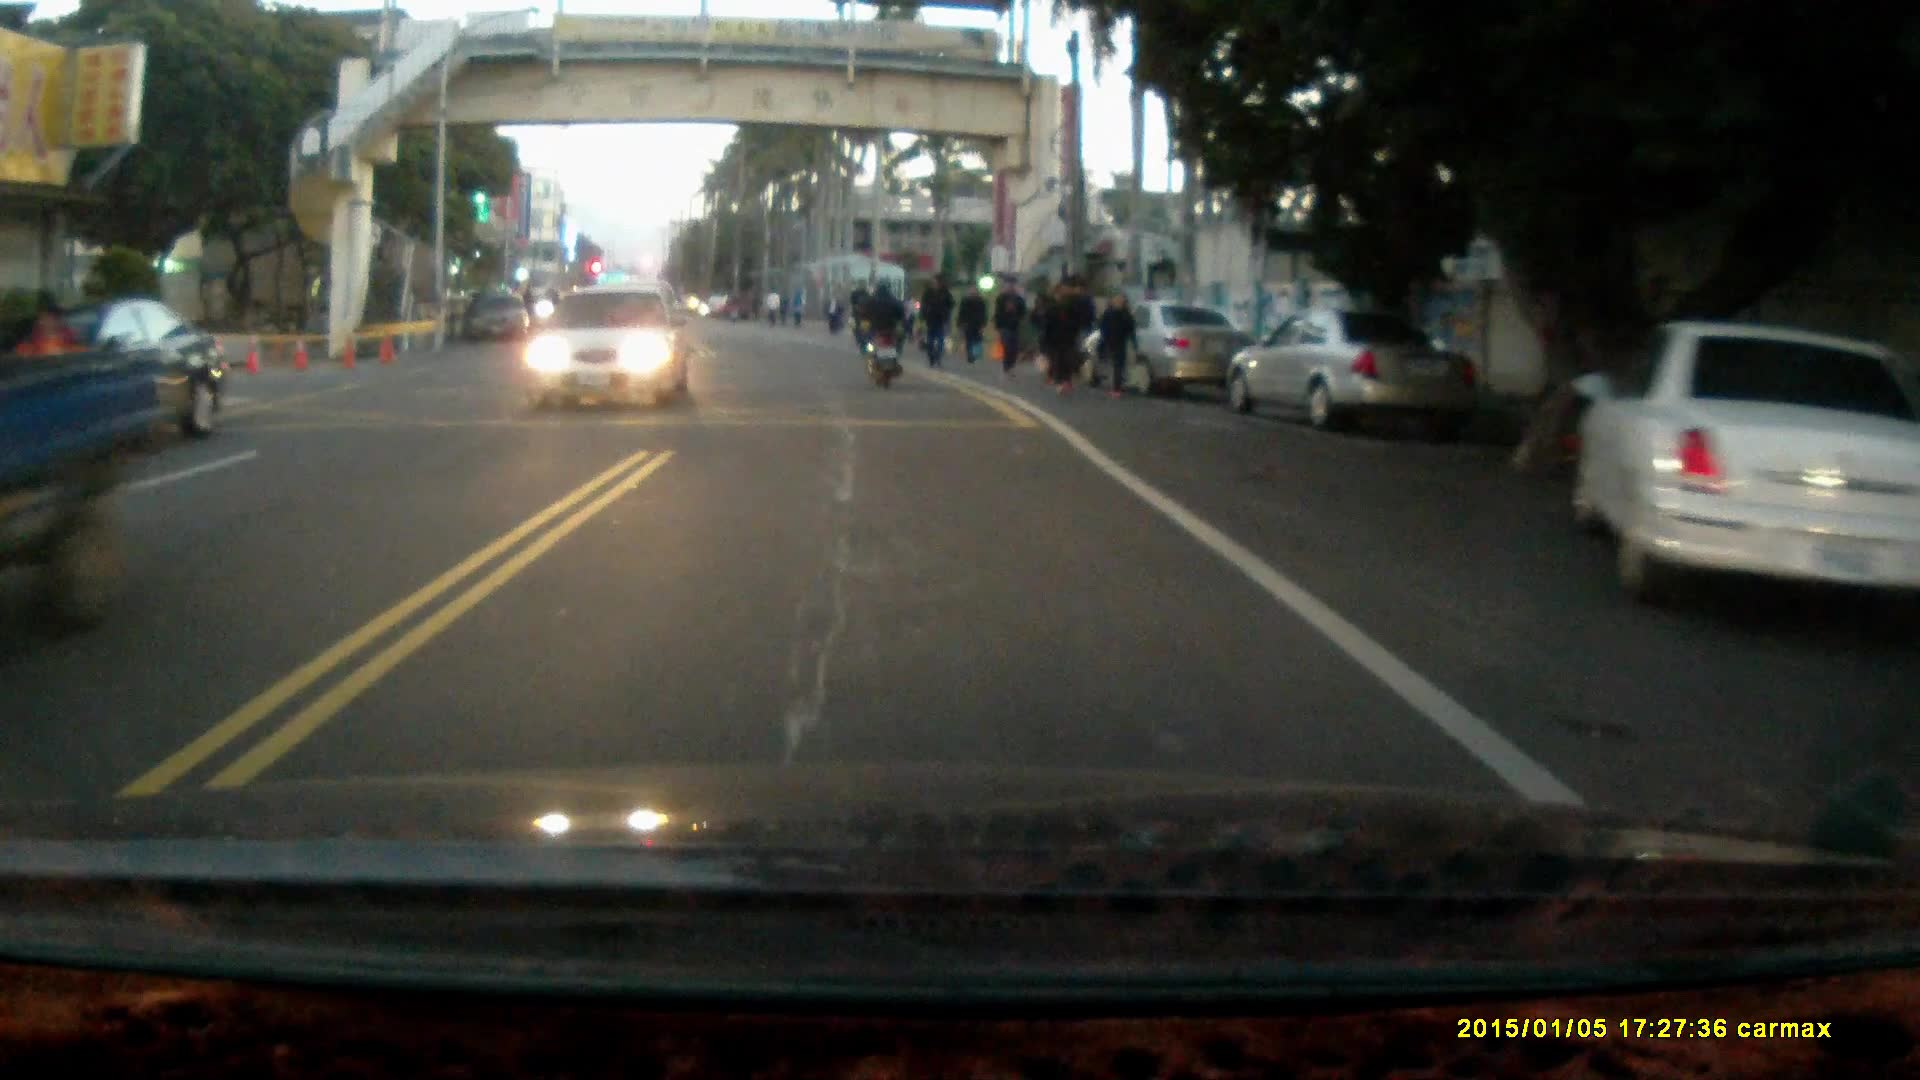pedestrian: (1098, 288, 1139, 400), (1040, 272, 1078, 386), (992, 271, 1028, 373), (1061, 271, 1094, 381), (918, 270, 955, 364), (955, 276, 991, 365)
rider: (853, 273, 910, 387)
vehicle: (1570, 316, 1899, 625), (2, 296, 216, 465), (1227, 297, 1481, 428), (519, 277, 696, 411), (1100, 294, 1259, 395)
